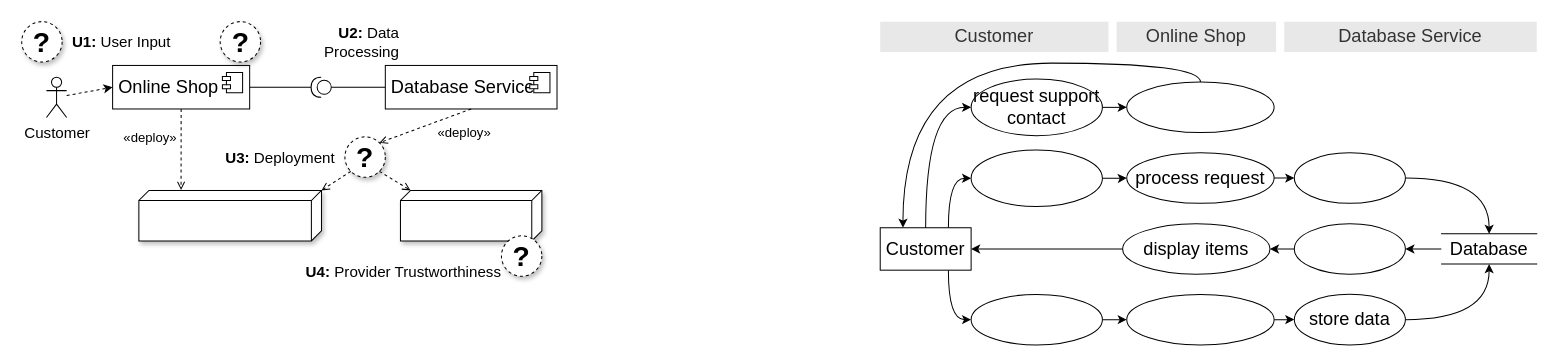
The diagram is 1554 pixels wide and 364 high, and some of its shapes have lost their labels. Here are the shapes that lost their labels. From the top down, the centre of each, then its label:
At (x=1200, y=107): "return contact".
At (x=1036, y=178): "input search details".
At (x=1349, y=177): "query data".
At (x=230, y=216): "On Premise Server".
At (x=471, y=216): "Cloud Service".
At (x=1349, y=248): "return data".
At (x=1036, y=319): "purchase item".
At (x=1200, y=319): "process purchase".
